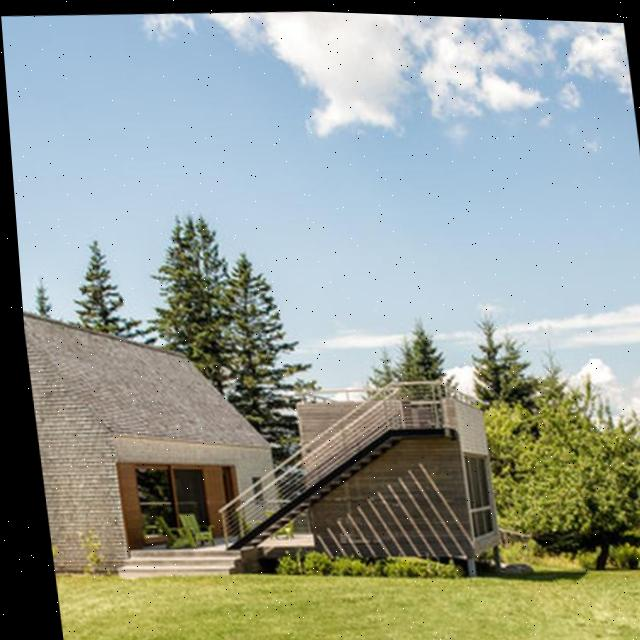building: (22, 298, 289, 584), (293, 379, 500, 561)
